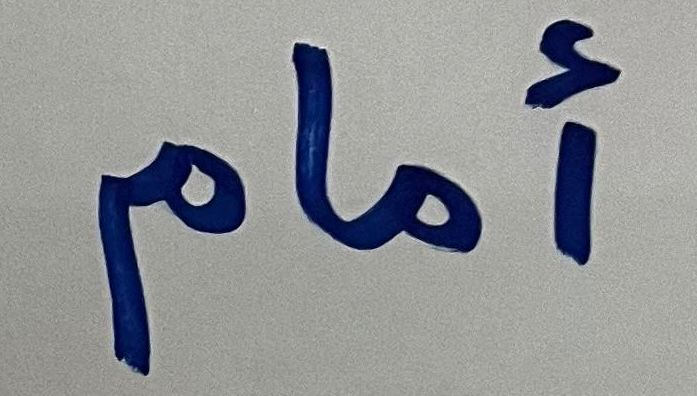alef: (274, 31, 359, 285)
hamza: (517, 12, 646, 304)
meem: (78, 124, 265, 383), (363, 117, 496, 288)
